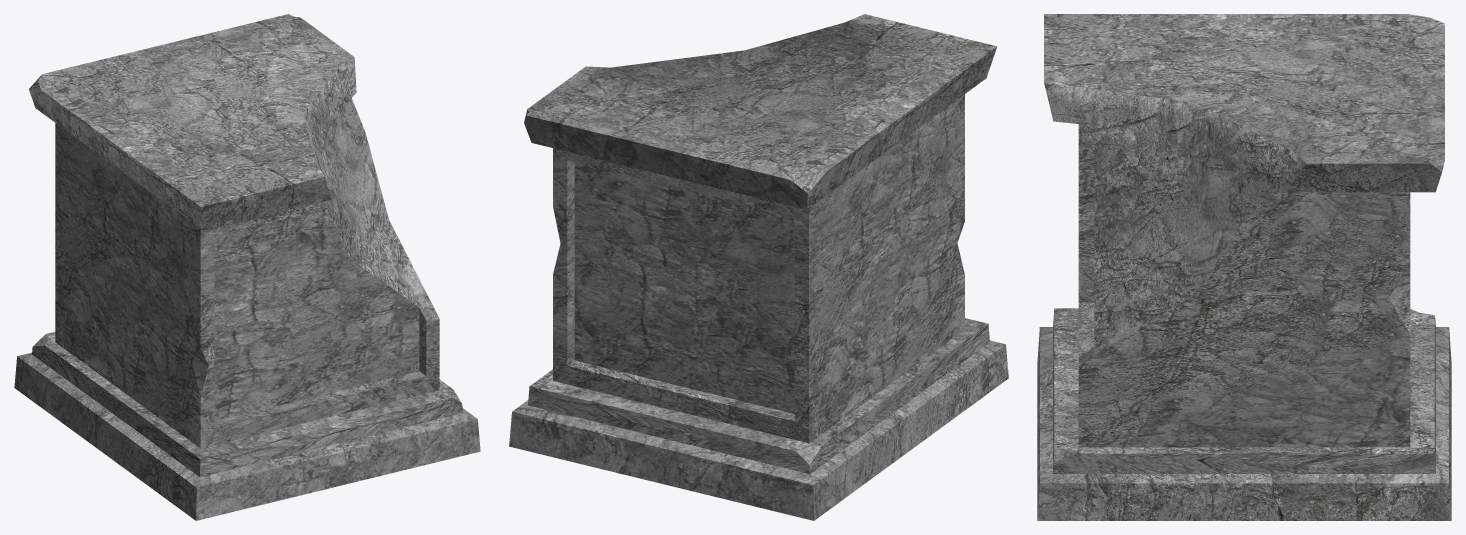
File: materials_3_pedestal_5.fbx
3 renders of one model, left to right at view 1: azimuth 30°, elevation 25°; view 2: azimuth 150°, elevation 25°; view 3: azimuth 270°, elevation 25°, orthographic. The views are drawn at different scales.
Visible parts, largest first — view 1: materials_3_pedestal_5; view 2: materials_3_pedestal_5; view 3: materials_3_pedestal_5.
Boxes of the visible parts, x1=… form: materials_3_pedestal_5: x1=14, y1=14, x2=480, y2=520; materials_3_pedestal_5: x1=509, y1=14, x2=1008, y2=520; materials_3_pedestal_5: x1=1037, y1=14, x2=1451, y2=520.
Size of the model in its own units: 116 by 122 by 128.
